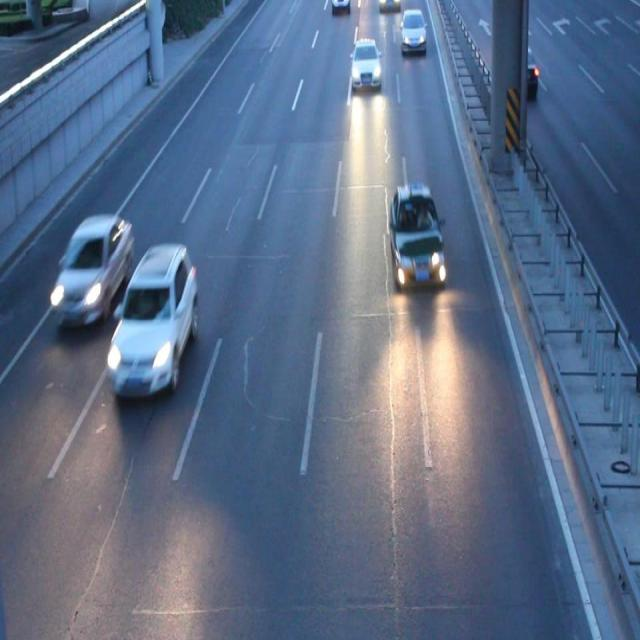car: (105, 245, 197, 396), (50, 213, 131, 326), (388, 185, 446, 289), (349, 38, 381, 88), (398, 10, 426, 52)
